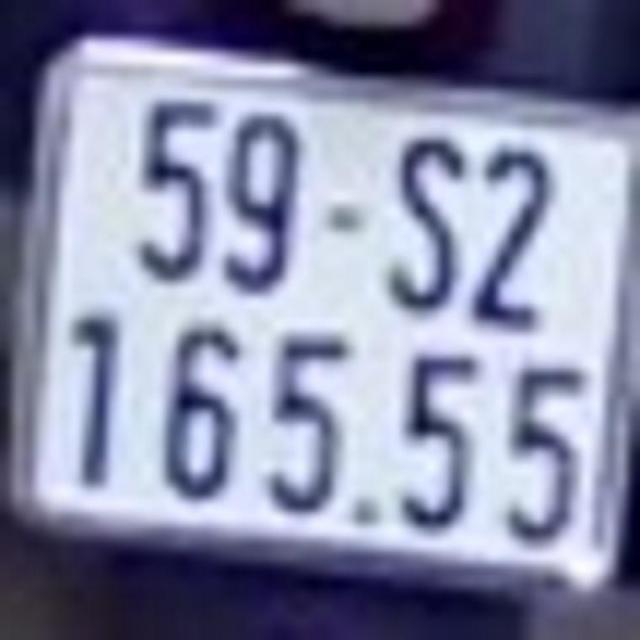1: (66, 306, 112, 482)
2: (475, 147, 544, 330)
5: (508, 368, 584, 546), (140, 92, 209, 279), (407, 355, 476, 535), (274, 339, 338, 516)
6: (163, 326, 234, 504)
9: (225, 110, 292, 292)
S: (394, 136, 460, 314)
